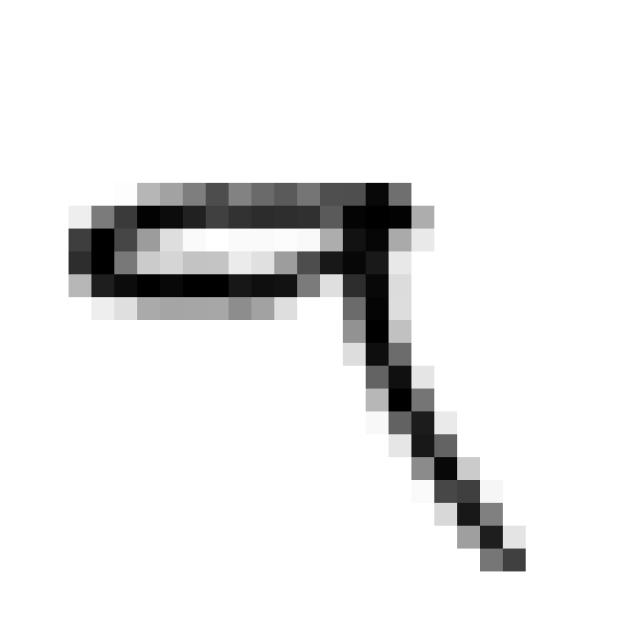9 -nine-: (51, 160, 540, 592)
